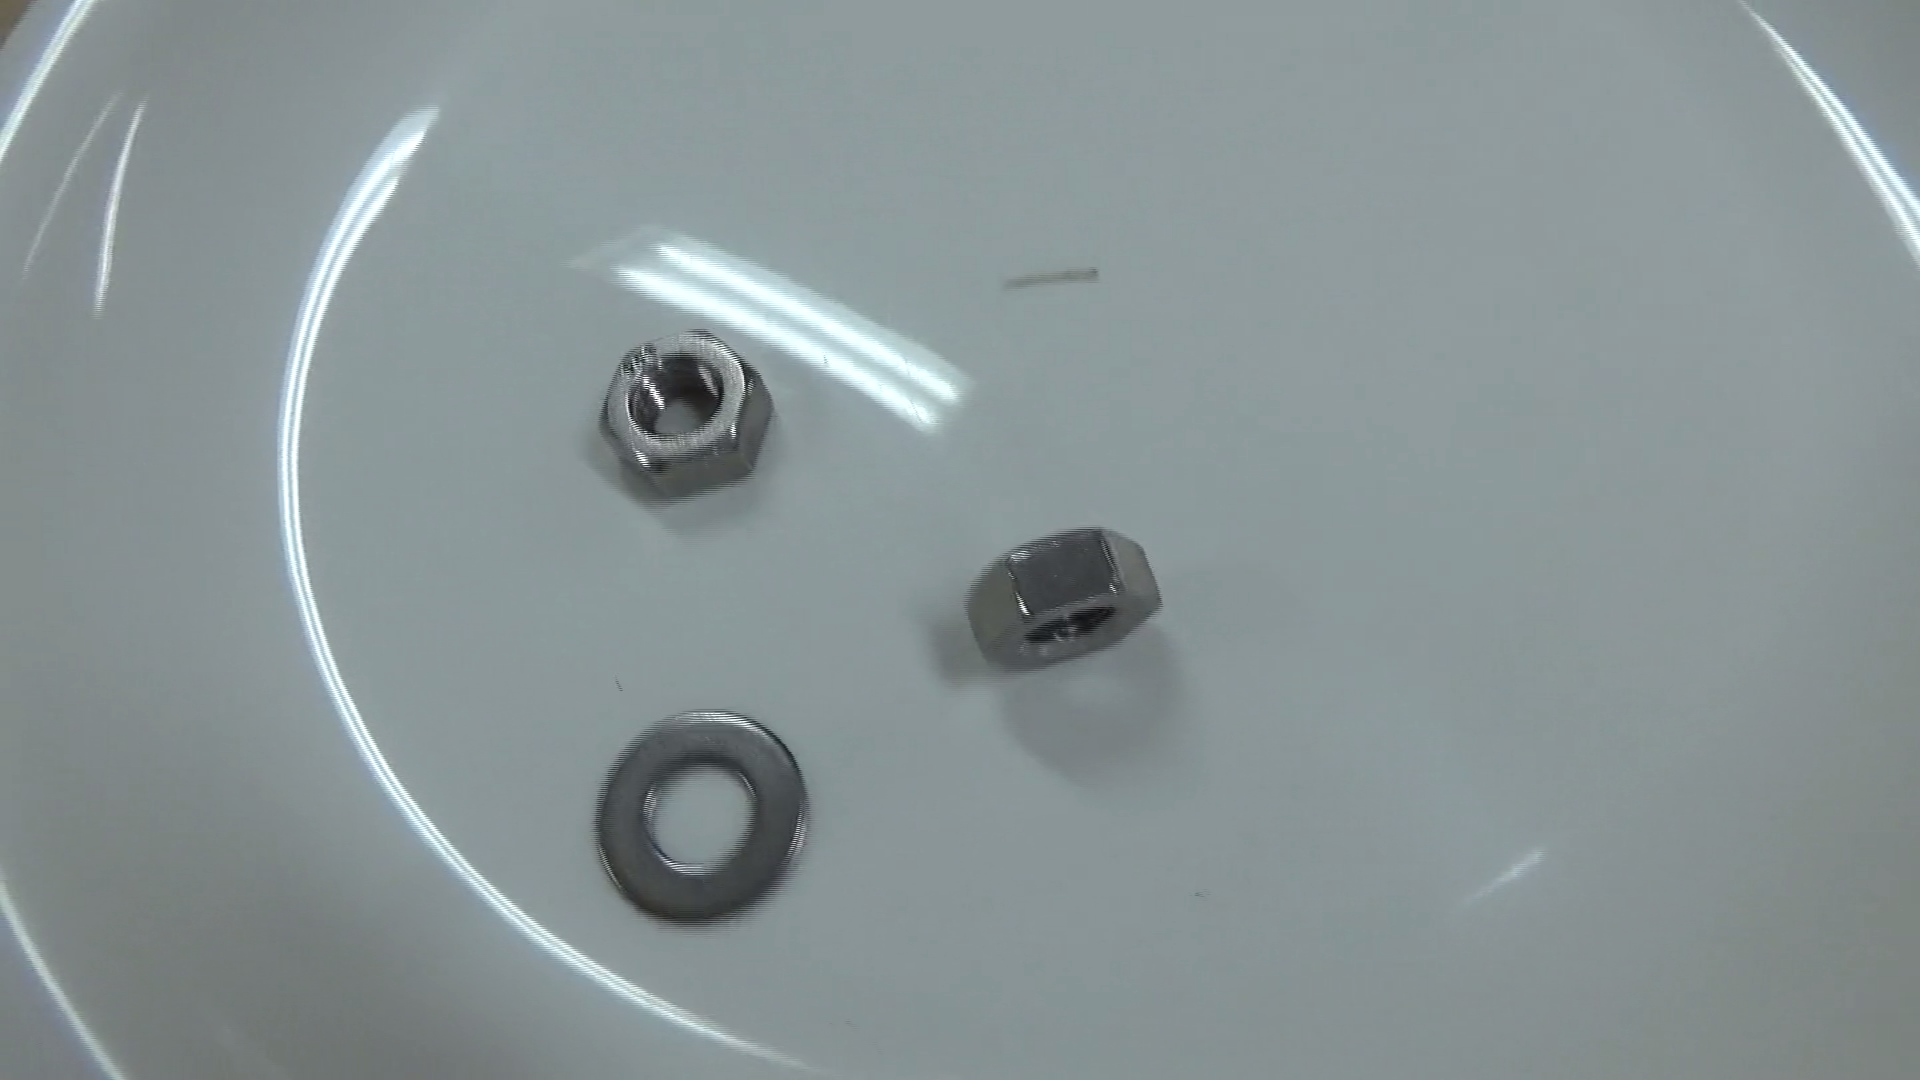nut: (585, 307, 782, 534), (944, 512, 1176, 694)
washer: (583, 698, 824, 945)
